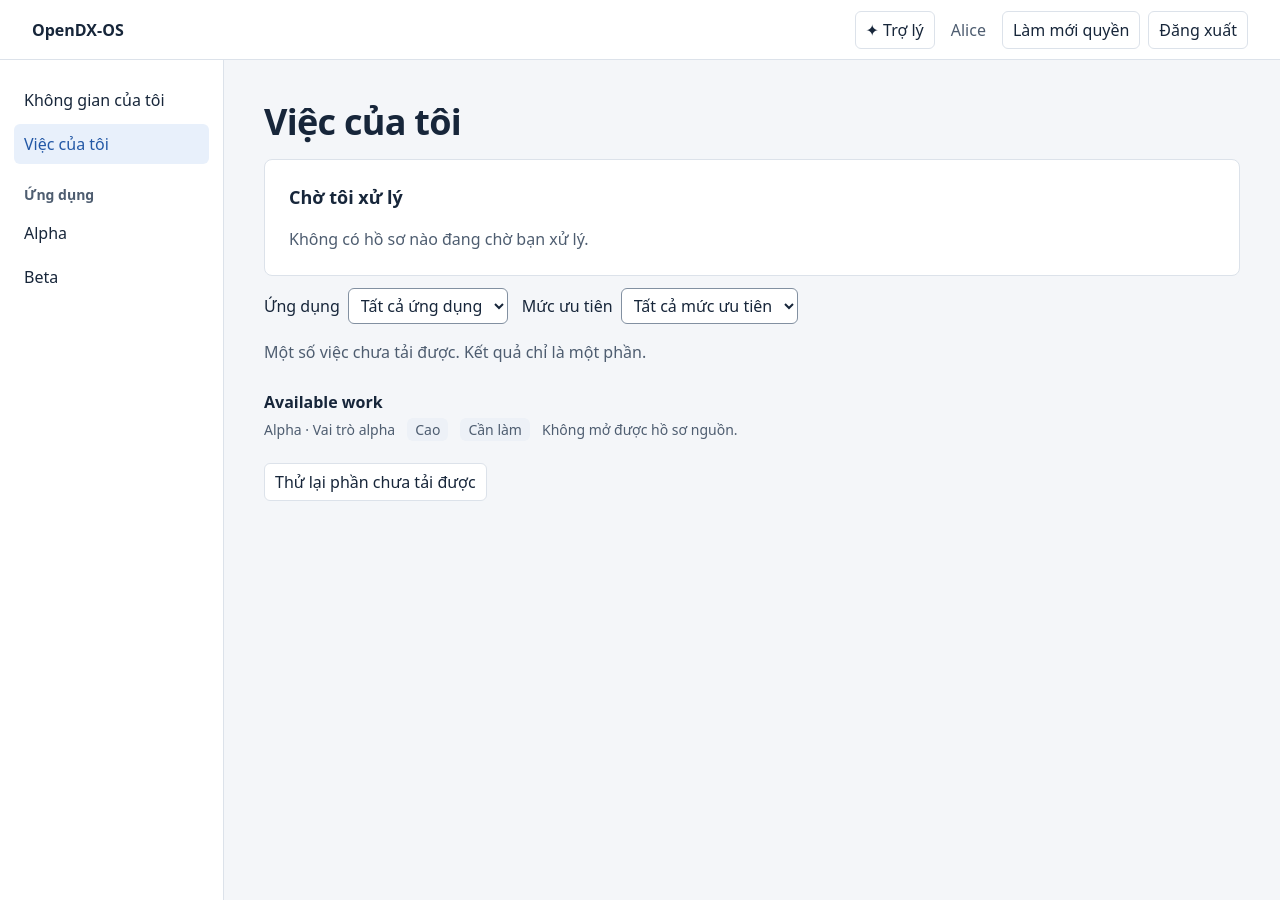
Test: reports partial coverage during a failed grant and recovers it on retry
Expected: the text "Available work" is shown, [264,391,383,413]
Expected: the text "Một số việc chưa tải được. Kết quả chỉ là một phần." is shown, [264,341,646,363]
Click the button "Thử lại phần chưa tải được" at (375, 482), box [264,463,487,501]
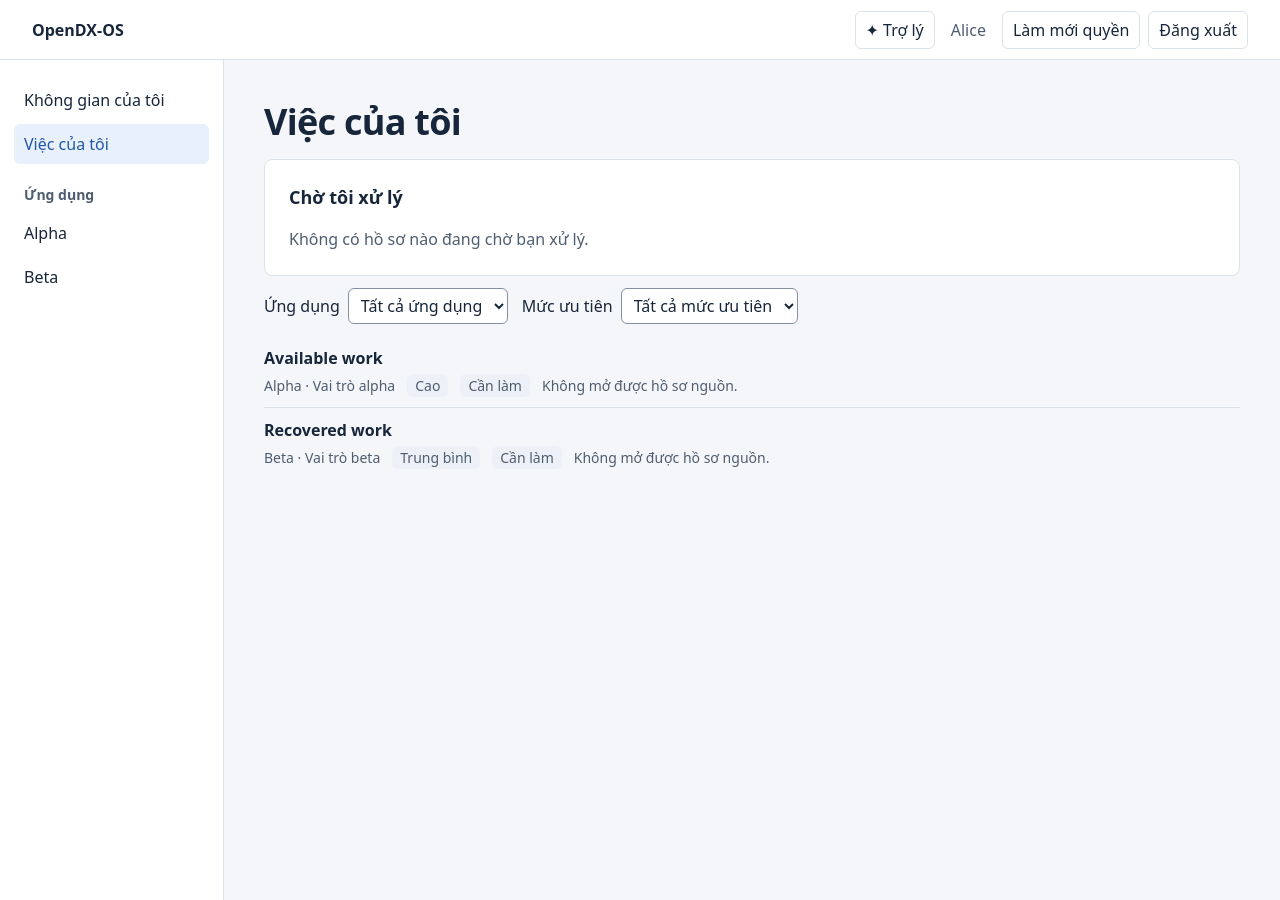
Expected: the text "Available work" is shown, [264,347,383,369]
Expected: the text "Recovered work" is shown, [264,419,392,441]
Expected: the text "Một số việc chưa tải được" is gone
